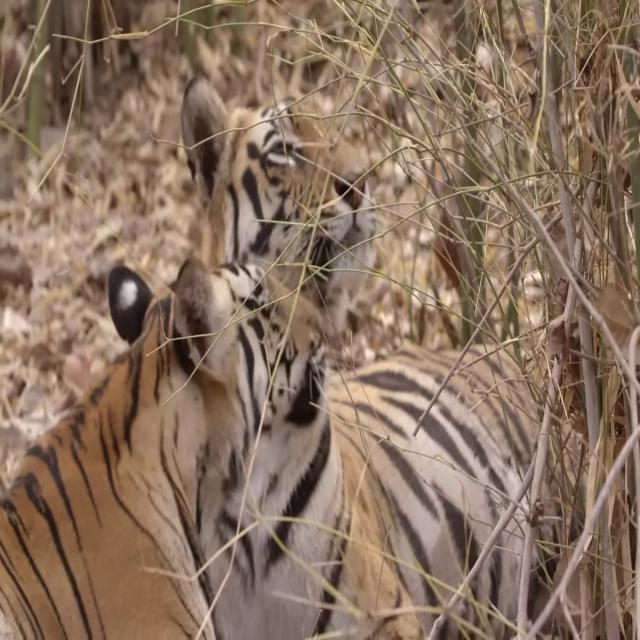tiger: (182, 76, 594, 640), (0, 253, 327, 640)
